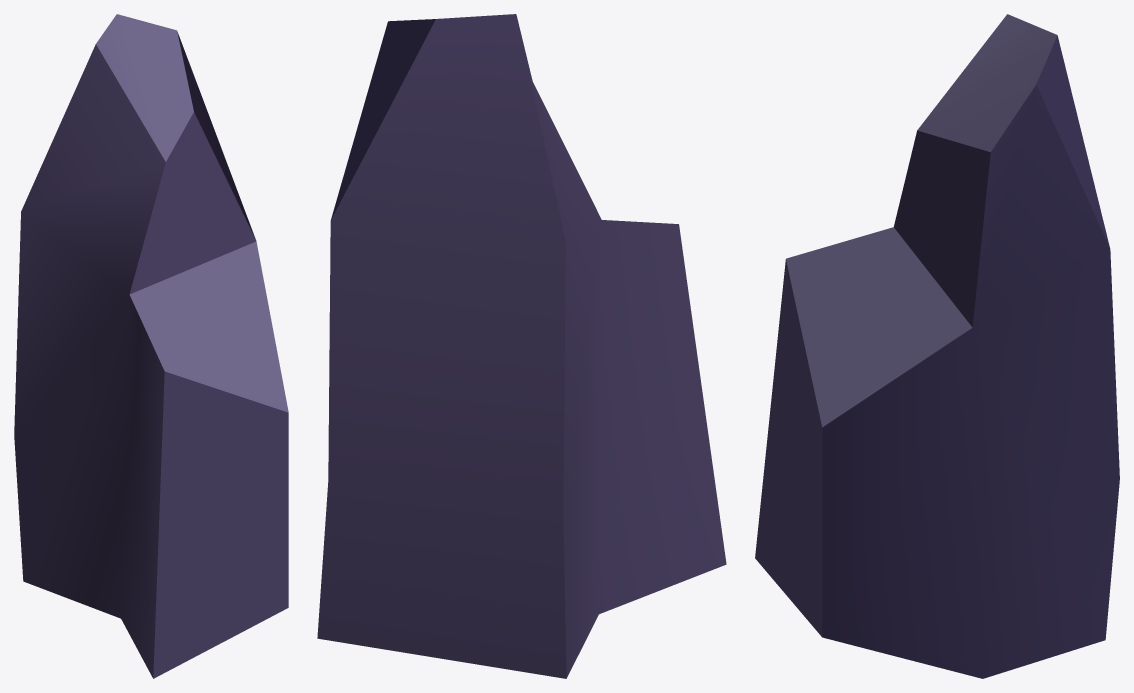
Rendered from rock3.fbx.
3 renders of one model, left to right at view 1: azimuth 30°, elevation 25°; view 2: azimuth 150°, elevation 25°; view 3: azimuth 270°, elevation 25°, orthographic. The views are drawn at different scales.
Parts seen in each view (by area): view 1: pCube48; view 2: pCube48; view 3: pCube48.
Part boxes in pixels (x1,y1,x2,y2): pCube48: [14, 14, 288, 678]; pCube48: [317, 14, 726, 678]; pCube48: [755, 14, 1119, 678].
Size of the model in its own units: 137 by 304 by 174.
